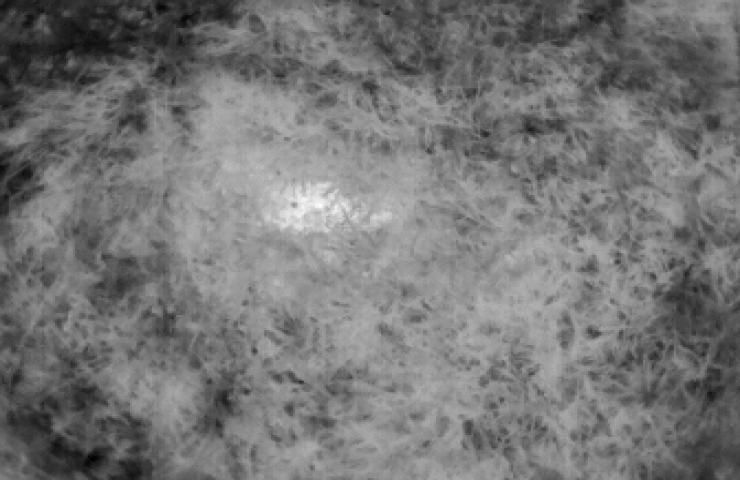landmines: (258, 178, 377, 245)
